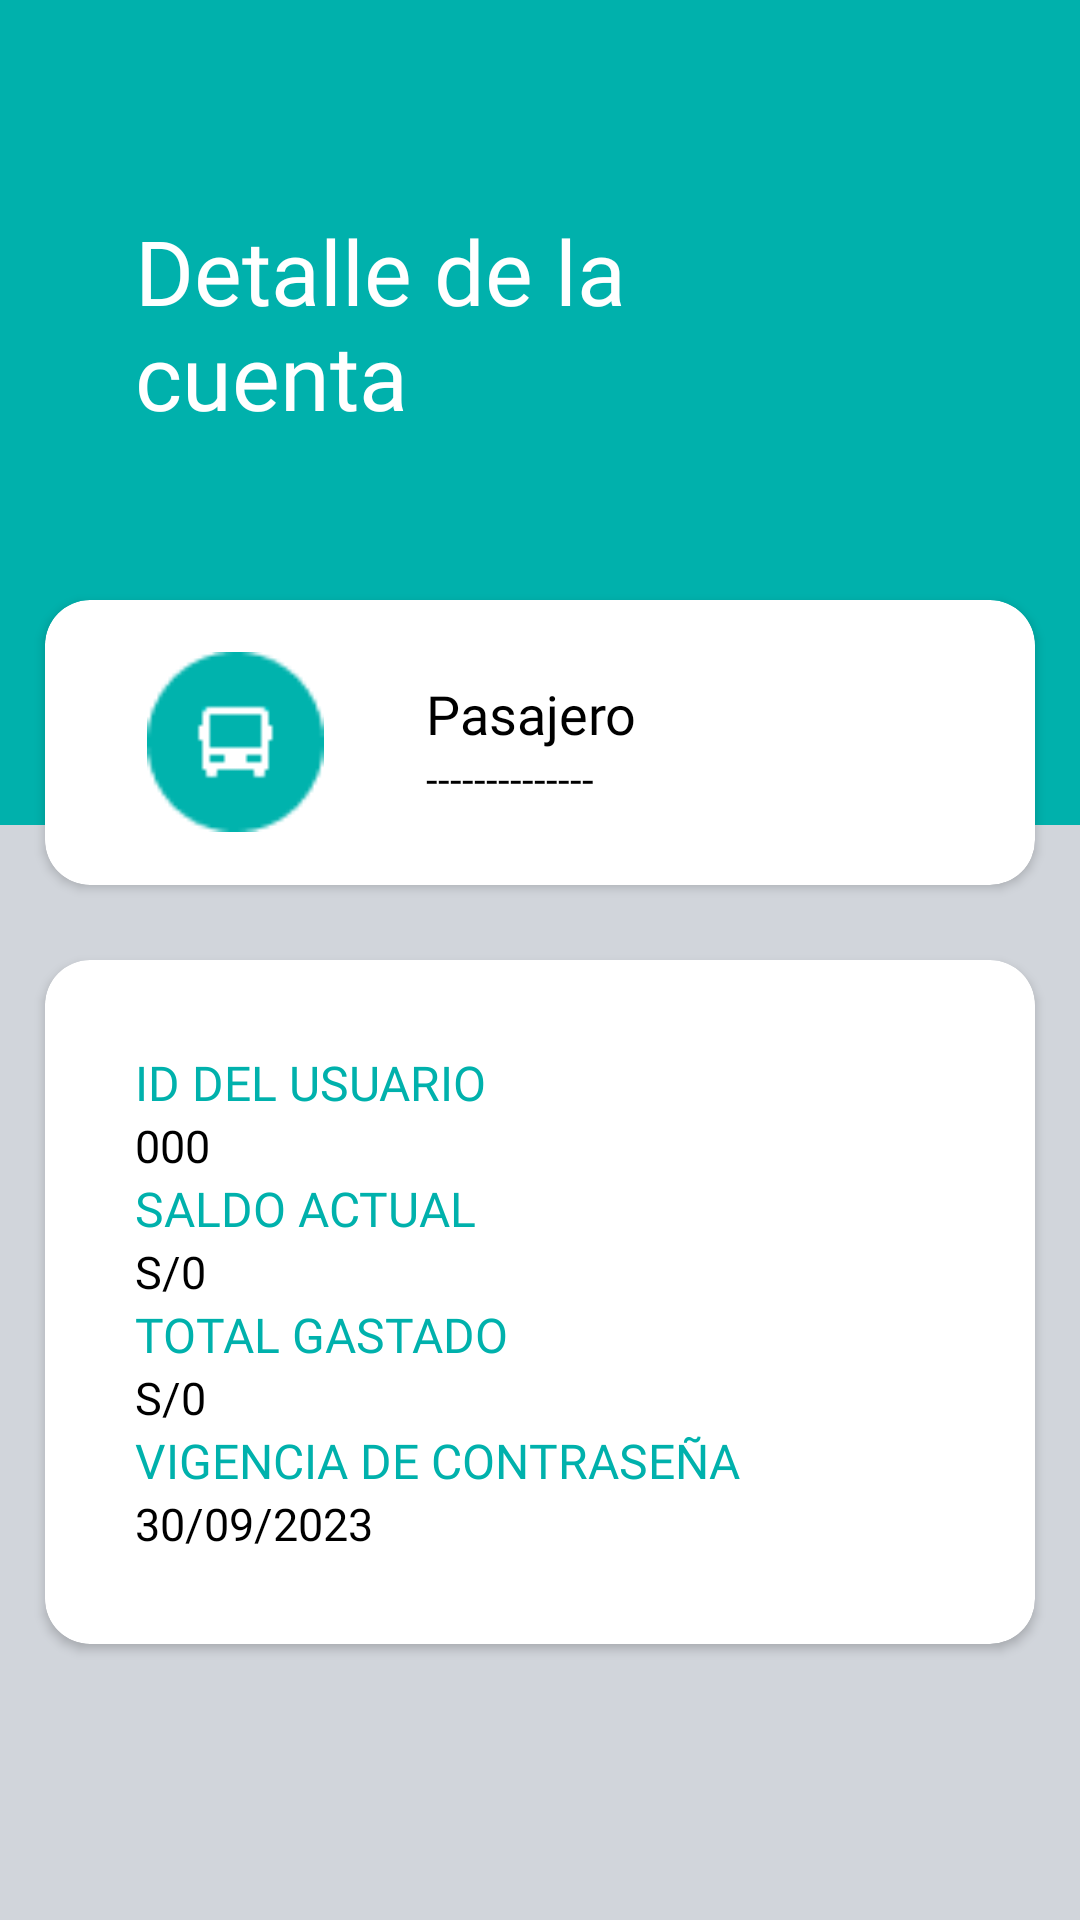

Where icons sit on this 1080 × 1920 app screen, as (x1, y1, x2, y2):
bus: (147, 652, 324, 832)
